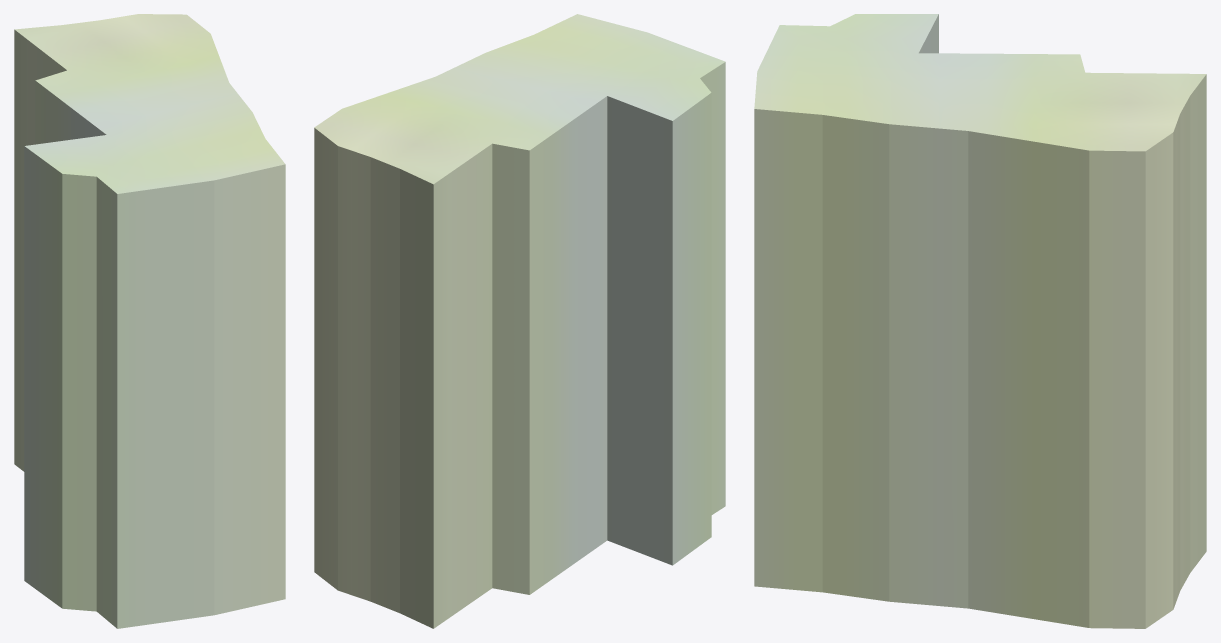
File: deal.glb
3 renders of one model, left to right at view 1: azimuth 30°, elevation 25°; view 2: azimuth 150°, elevation 25°; view 3: azimuth 270°, elevation 25°, orthographic. The views are drawn at different scales.
Parts seen in each view (by area): view 1: Plane.027; view 2: Plane.027; view 3: Plane.027.
Part boxes in pixels (box(x1,y1,x2,y2)): Plane.027: box(14, 14, 285, 628); Plane.027: box(314, 14, 725, 628); Plane.027: box(754, 14, 1206, 628).
Size of the model in its own units: 0.238 by 0.3856 by 0.331.
1 material, 1 textured.
